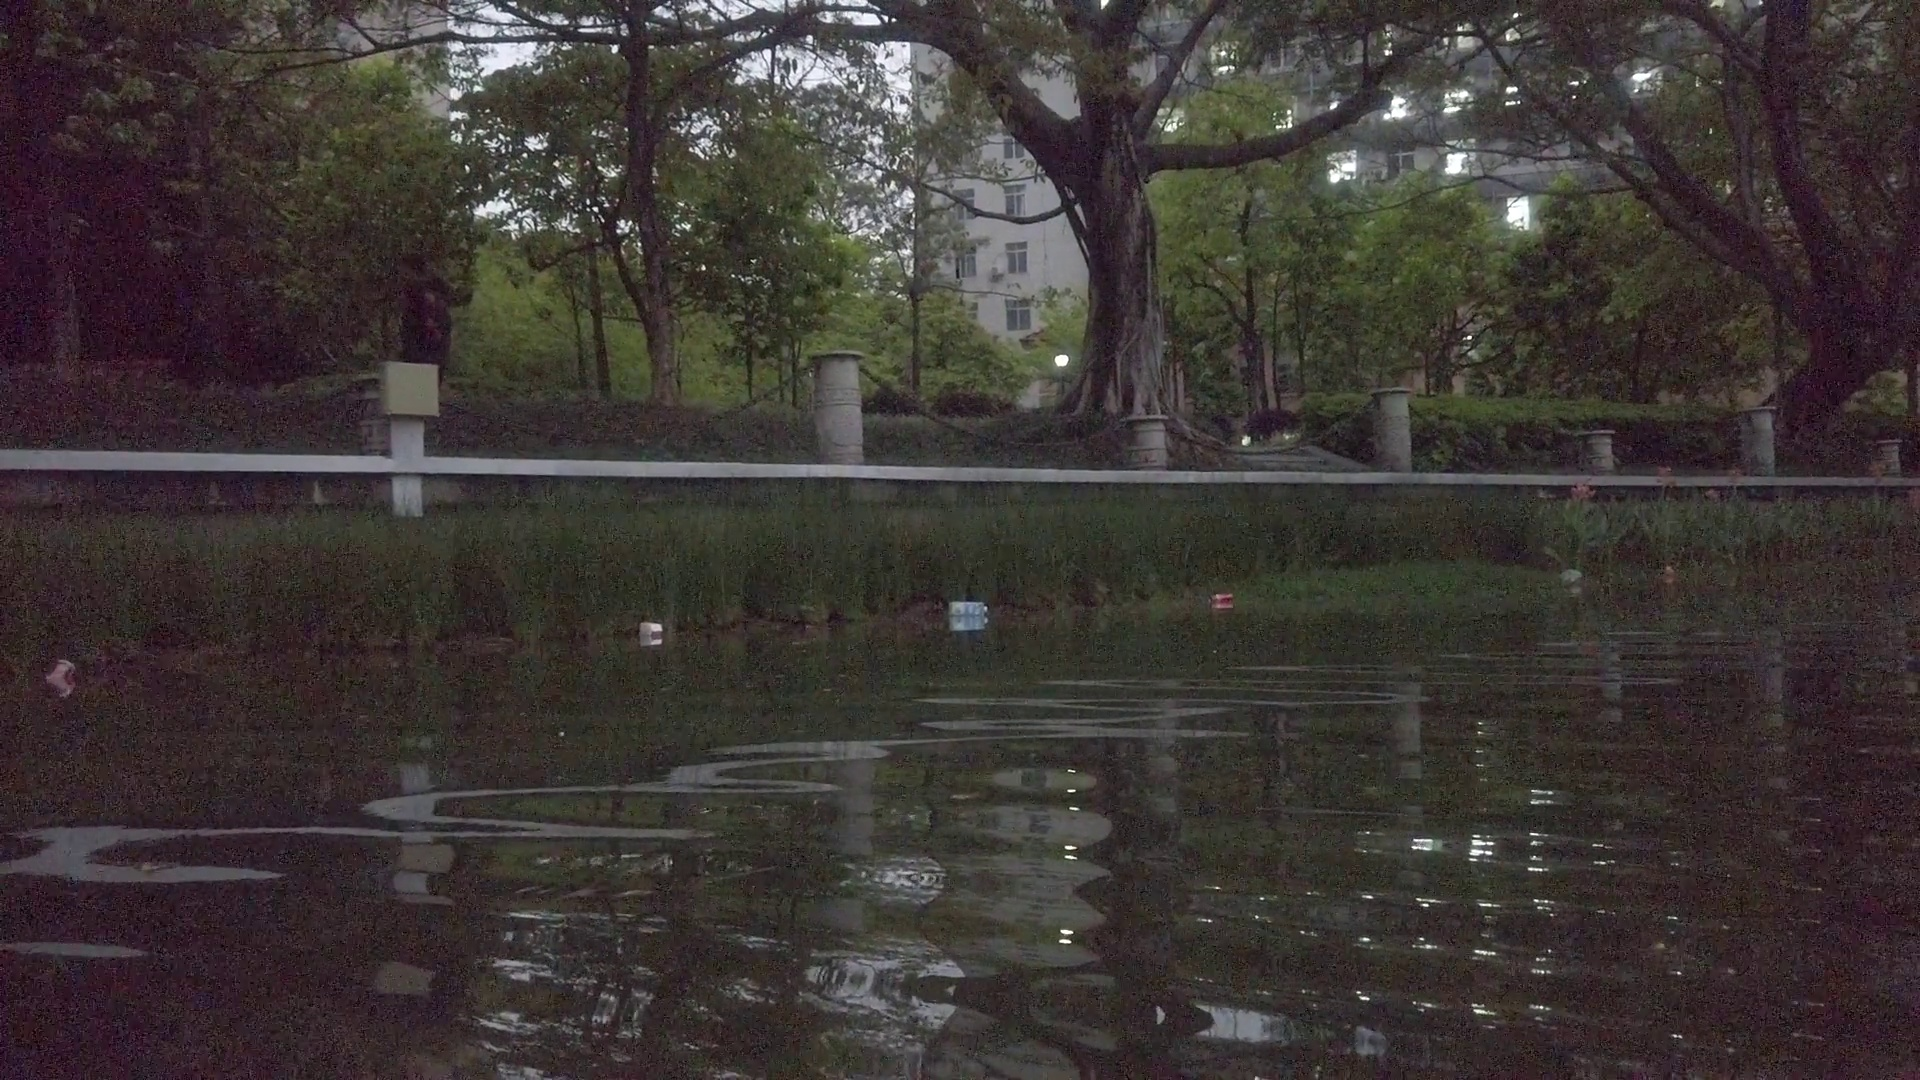bottle: (49, 661, 76, 695), (1658, 560, 1683, 593), (1556, 566, 1581, 592), (948, 603, 989, 617), (1208, 593, 1232, 605)
carton: (642, 618, 665, 640)
